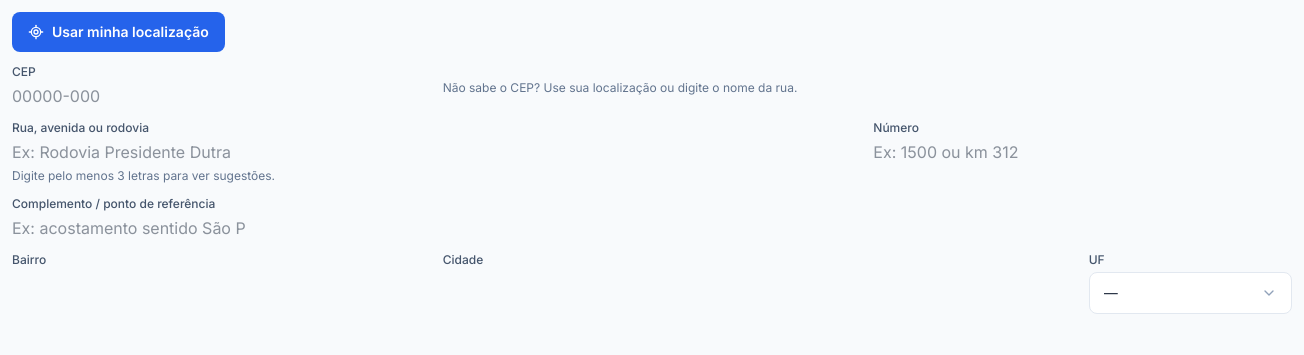
Test: campo de localização › mostra a mensagem do GPS quando a permissão é negada
This screenshot has width=1304, height=355.
Click the button "Usar minha localização" at (118, 32), box top-left (12, 12), bottom-right (225, 52)
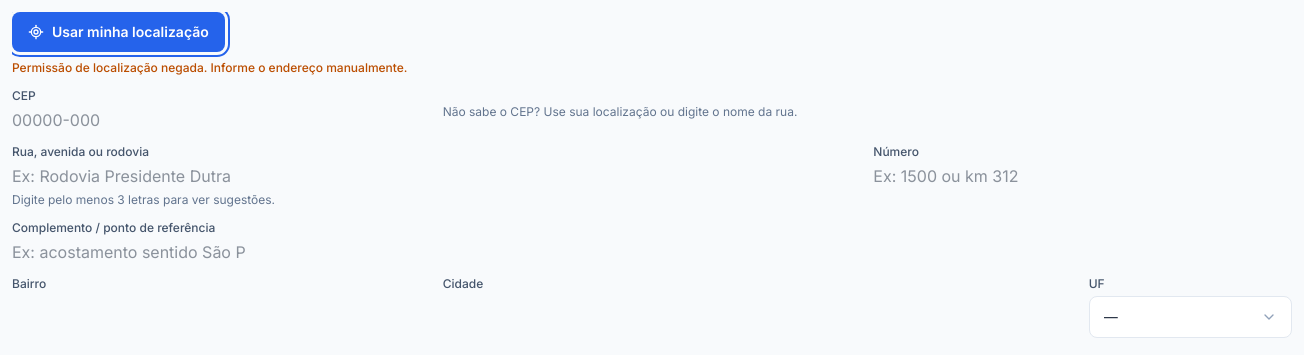
Expected: the message shows "Permissão de localização negada", top-left (12, 60), bottom-right (408, 75)
